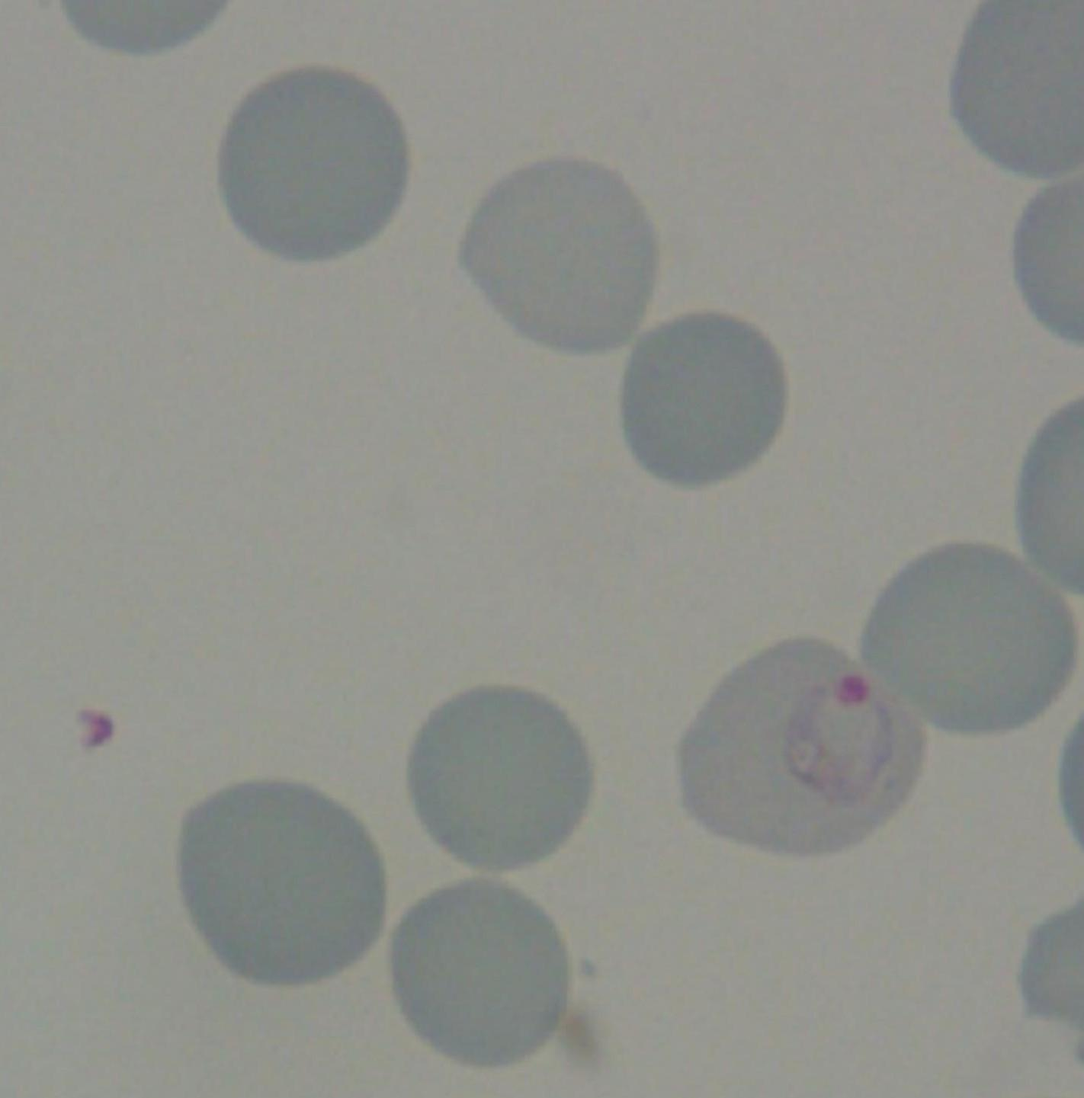Infected: (678, 638, 927, 856)
Uninfected: (175, 781, 389, 981), (872, 542, 1075, 735), (460, 156, 656, 347), (226, 67, 414, 259), (391, 882, 572, 1069), (409, 692, 592, 866), (628, 313, 790, 483)
